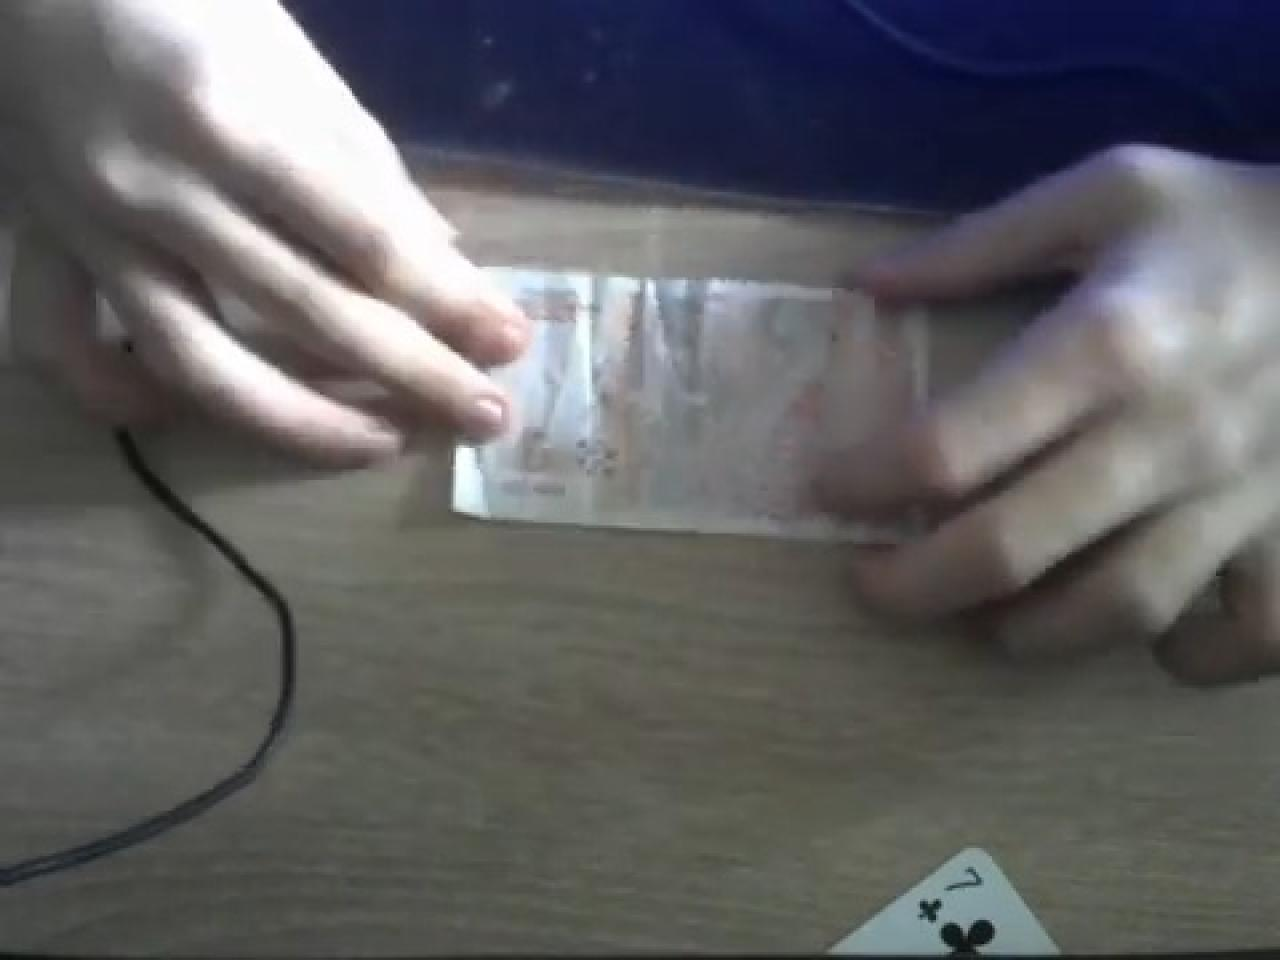5leva: (454, 269, 856, 538)
